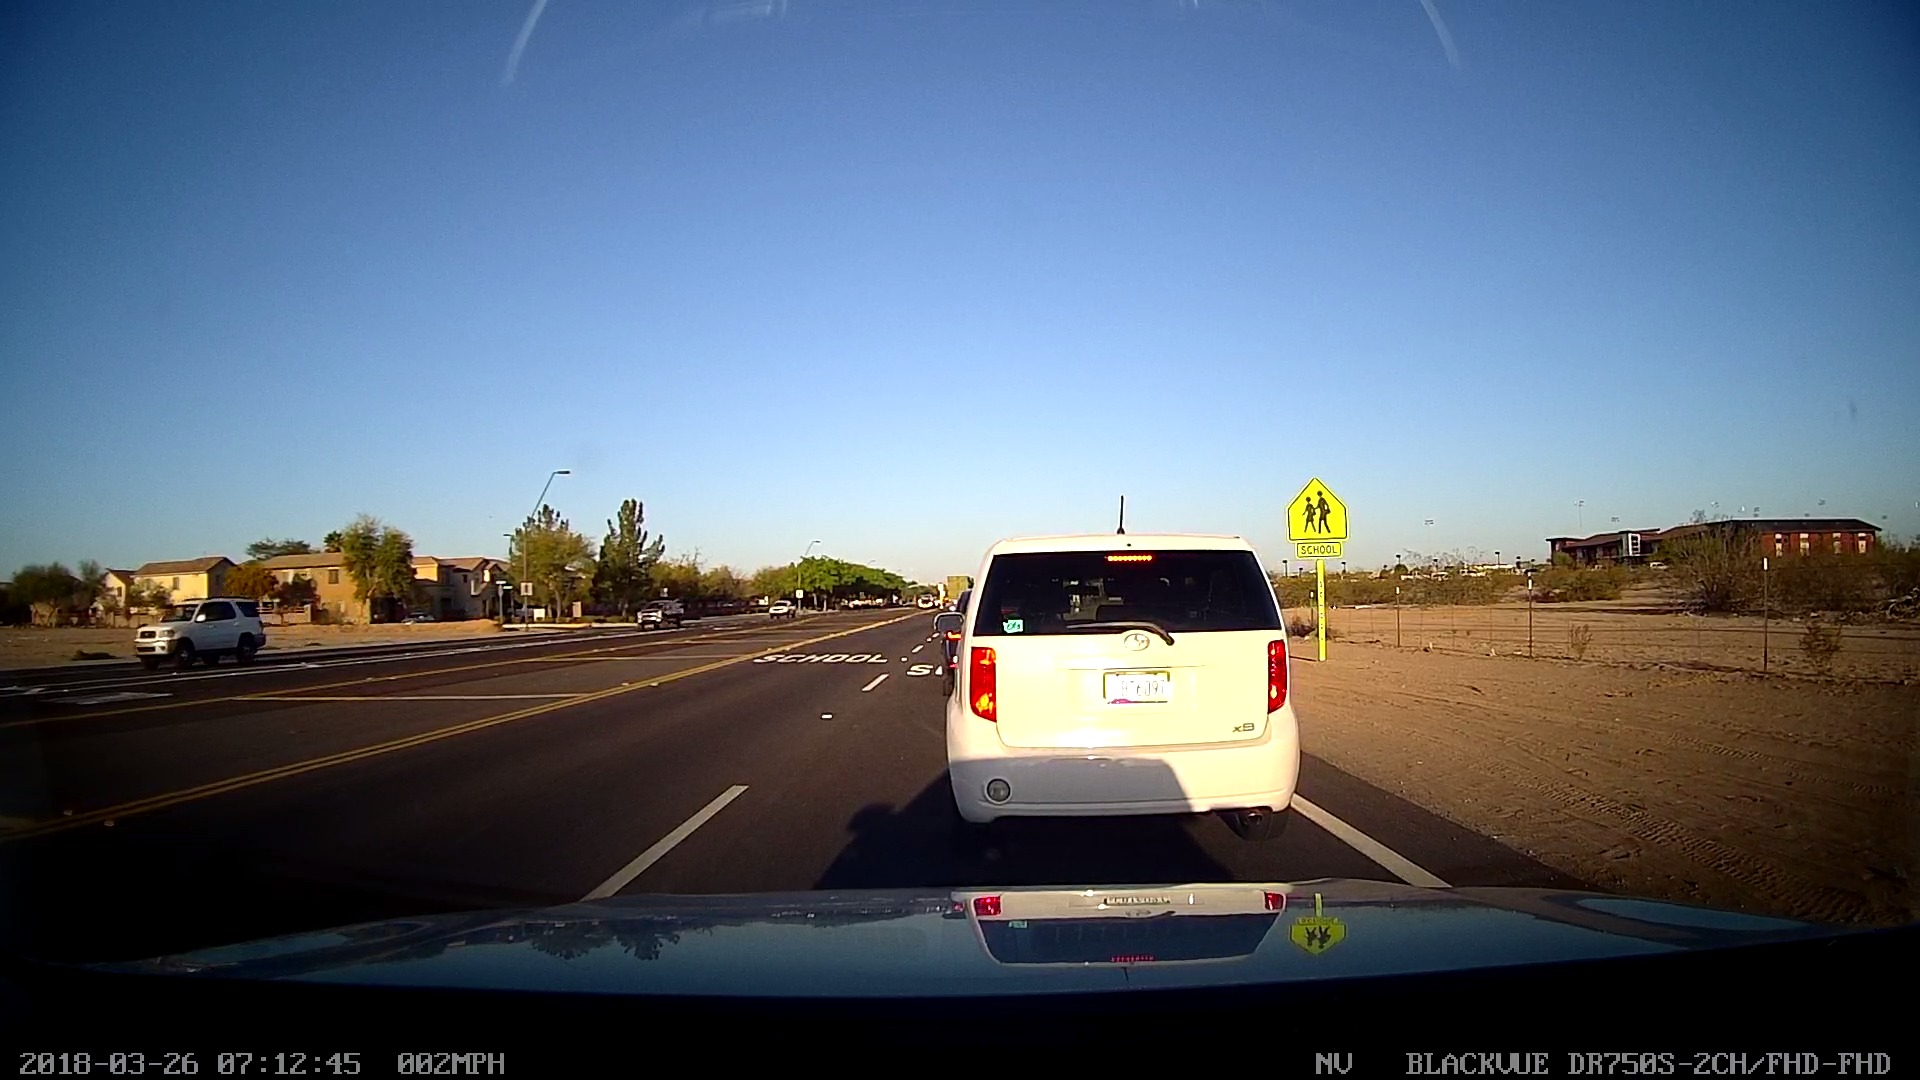plate: (1097, 662, 1178, 712)
vehicle: (936, 525, 1308, 835), (121, 591, 270, 670), (630, 589, 692, 632)
